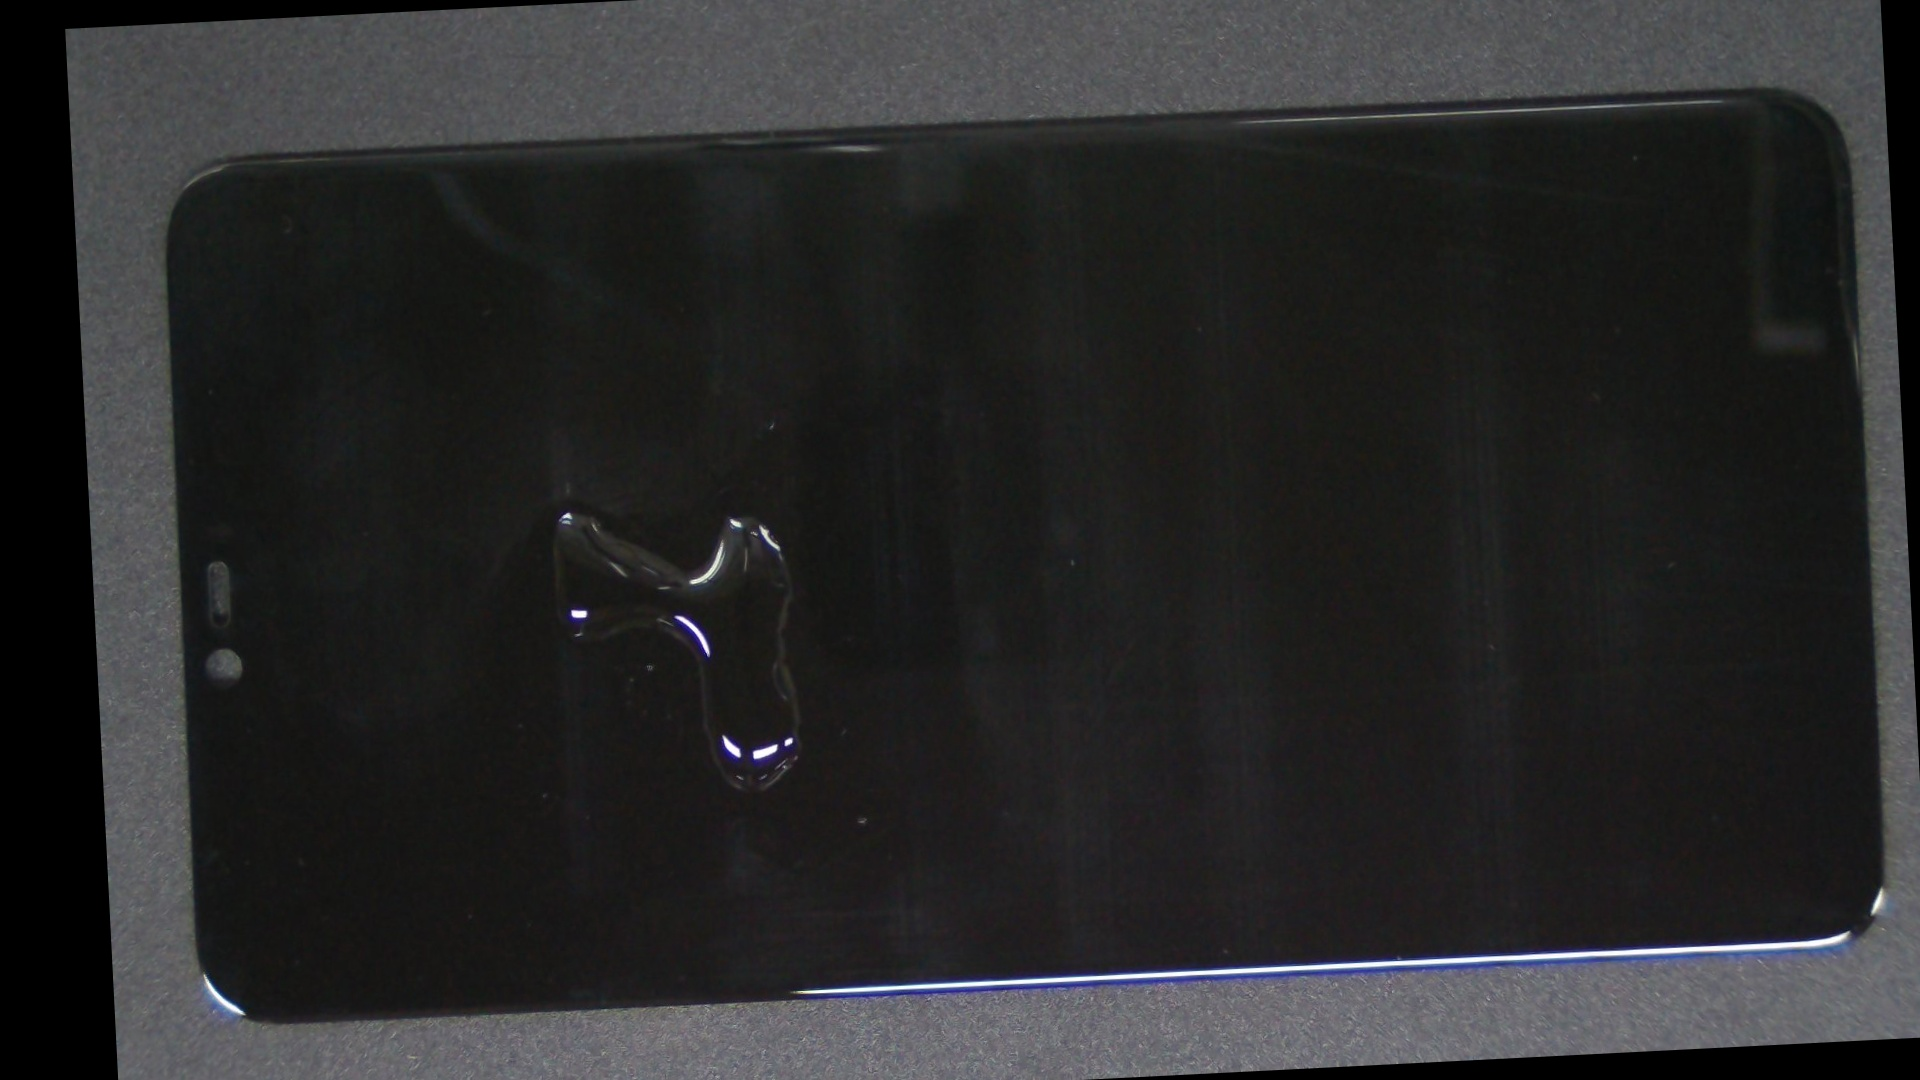oil: (318, 247, 823, 779)
